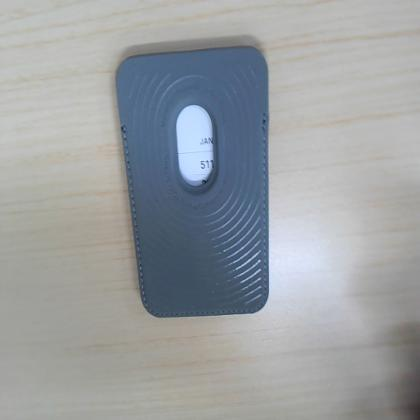pics: (117, 46, 268, 317)
